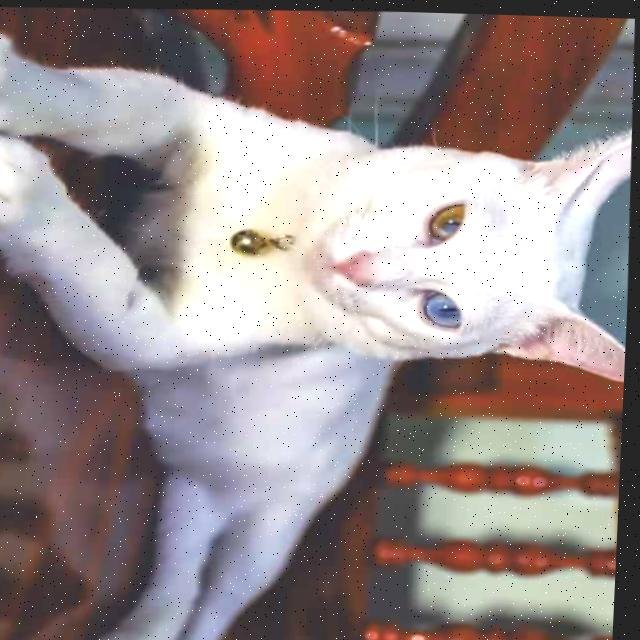Khao Manee: (0, 12, 640, 640)
